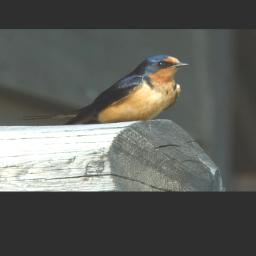Swallow: (18, 55, 190, 125)
